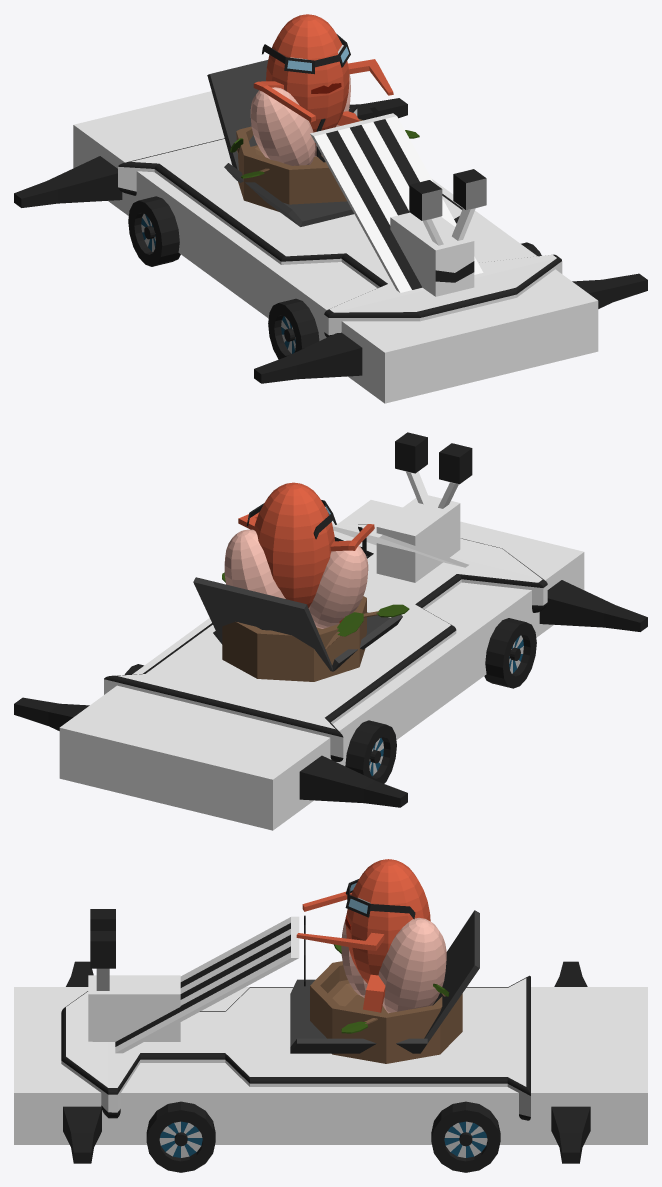
The model's file is gokart.glb.
3 views of the same model, one above another, from view 1: azimuth 30°, elevation 25°; view 2: azimuth 150°, elevation 25°; view 3: azimuth 270°, elevation 25° (orthographic).
Visible parts, largest first — view 1: old-ch, chassis, guy, extra-car-stuff, back-right-tire, front-right-tire; view 2: old-ch, chassis, guy, extra-car-stuff, front-right-tire, back-right-tire; view 3: old-ch, chassis, guy, extra-car-stuff, front-left-tire, back-left-tire.
Boxes of the visible parts, x1,y1,x2,y2 form: old-ch: [14, 91, 647, 403]; chassis: [118, 106, 562, 337]; guy: [207, 14, 393, 226]; extra-car-stuff: [230, 74, 419, 211]; back-right-tire: [128, 196, 180, 266]; front-right-tire: [268, 298, 319, 359]; old-ch: [14, 432, 647, 830]; chassis: [104, 522, 547, 761]; guy: [193, 482, 402, 671]; extra-car-stuff: [222, 529, 409, 681]; front-right-tire: [484, 618, 536, 688]; back-right-tire: [345, 720, 396, 783]; old-ch: [14, 909, 647, 1163]; chassis: [61, 915, 530, 1120]; guy: [290, 859, 479, 1053]; extra-car-stuff: [310, 918, 462, 1063]; front-left-tire: [146, 1101, 215, 1172]; back-left-tire: [431, 1101, 500, 1172].
Size of the model in its own units: 4.08 by 2.48 by 5.7.
1 material, 1 textured.
